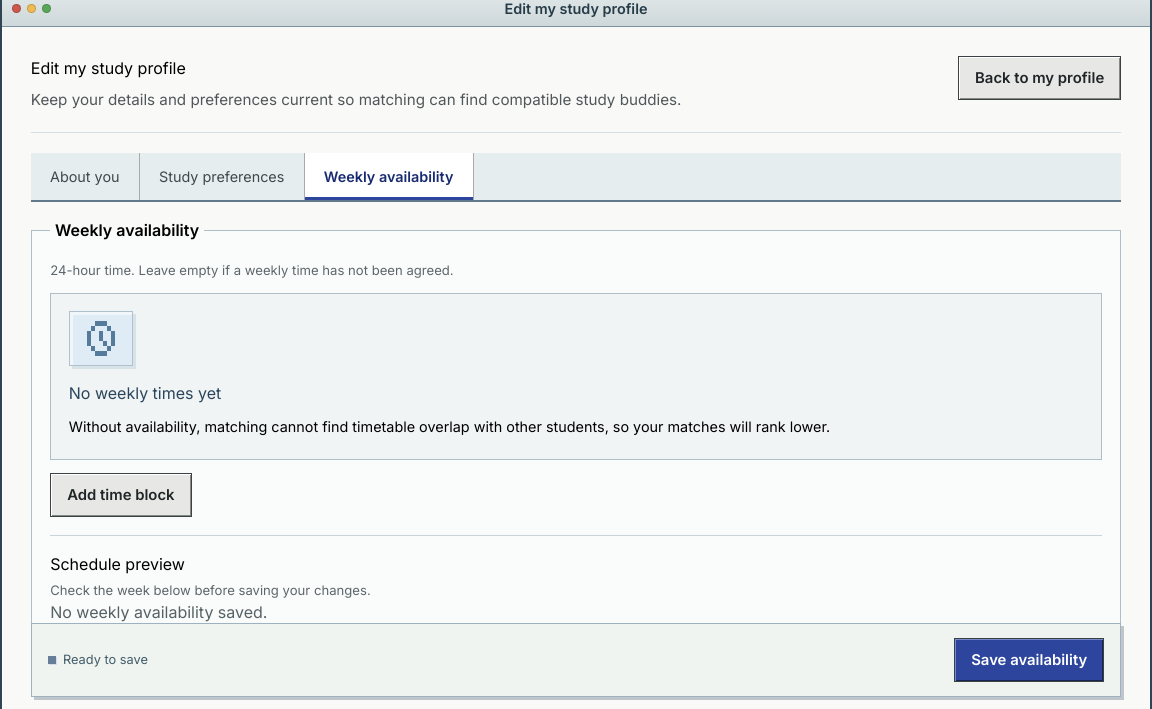
it: edit study profile › explains an empty week and saves new availability
Check: the heading "No weekly times yet" is shown, box [69,381,221,405]
Click the button "Add time block": (121, 495) [50,473,192,517]
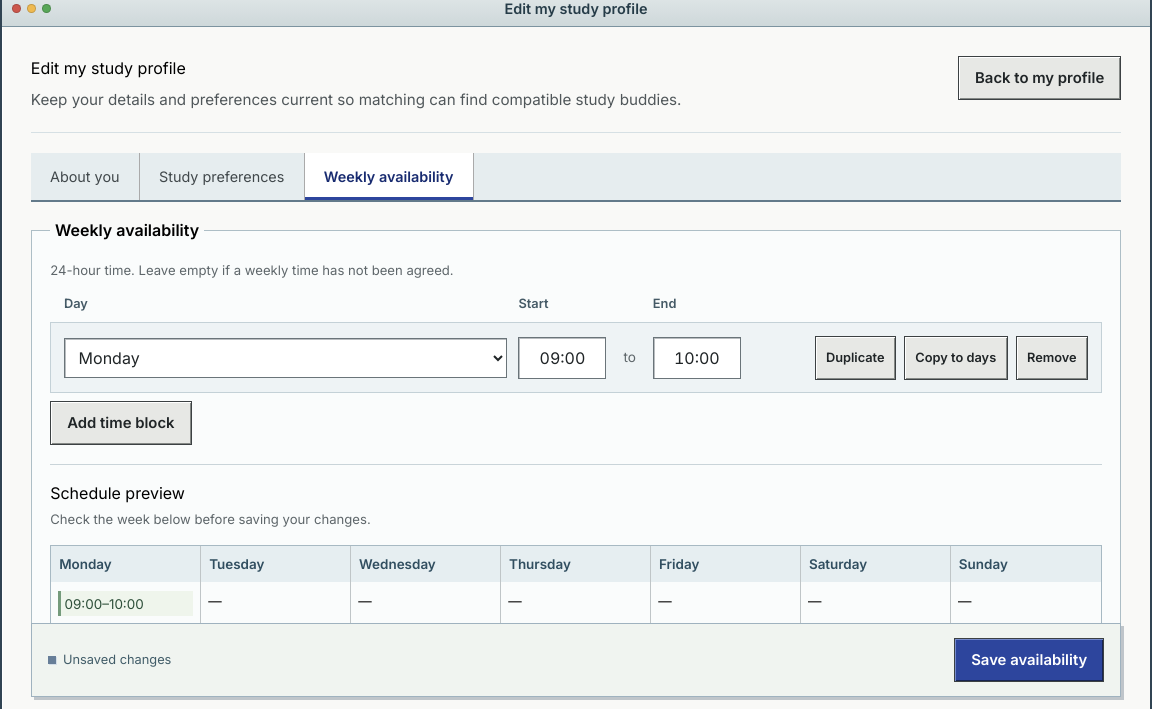
Click the button "Save availability": (1029, 660) [954,638,1104,682]
(page scrolled)
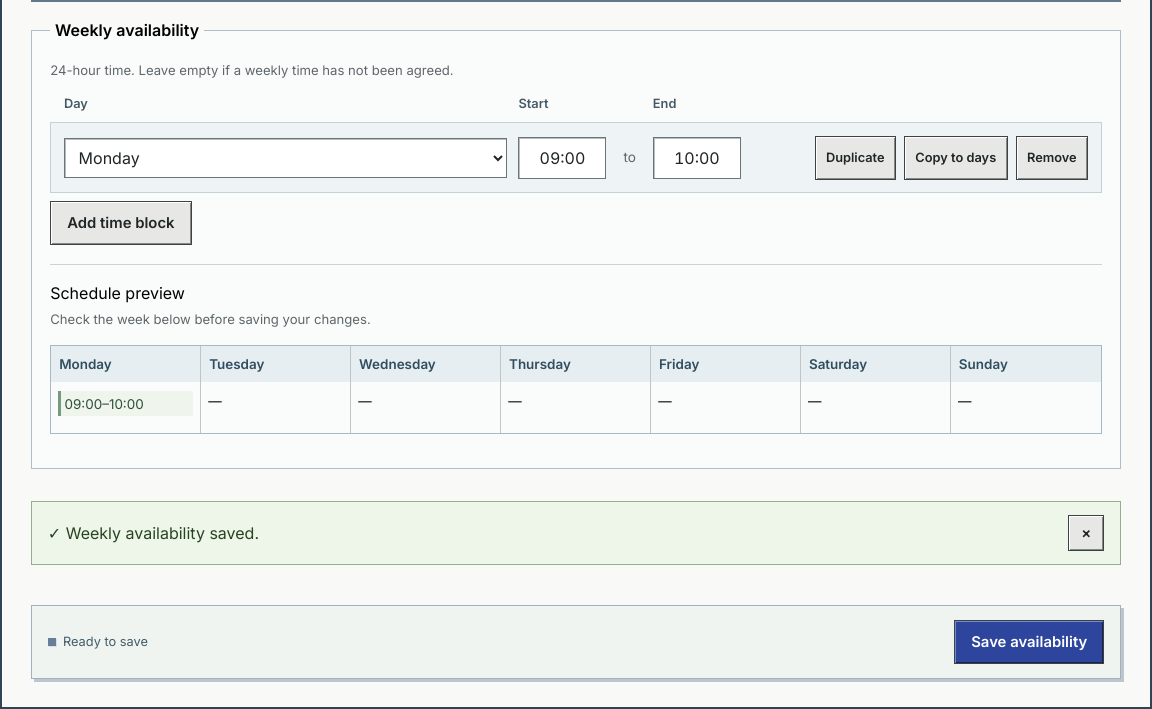
Check: the text "Weekly availability saved." is shown, box [66,523,259,543]
